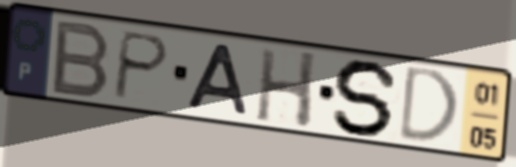A: (182, 41, 251, 119)
B: (47, 17, 114, 101)
D: (395, 63, 462, 145)
H: (253, 45, 321, 132)
P: (108, 28, 173, 103)
S: (330, 57, 404, 139)
